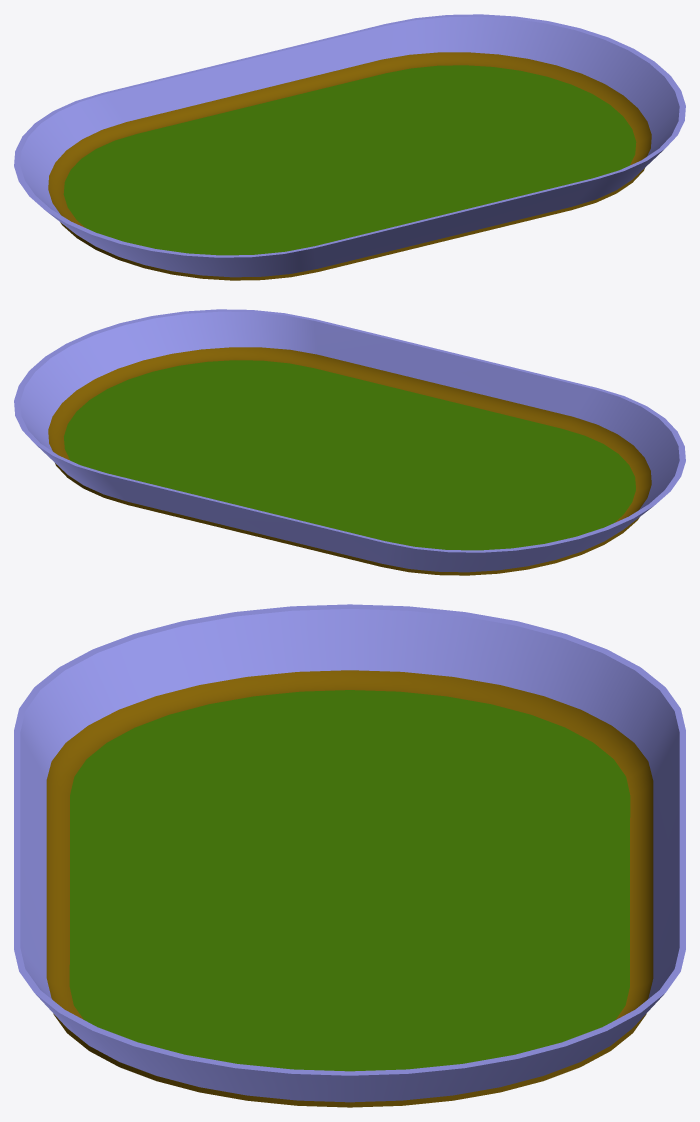
The model's file is Stadium_Round_Mesh.fbx.
The picture shows the model from 3 angles, top to bottom: view 1: azimuth 30°, elevation 25°; view 2: azimuth 150°, elevation 25°; view 3: azimuth 270°, elevation 25°; orthographic projection. The views are drawn at different scales.
Parts seen in each view (by area): view 1: Stadium; view 2: Stadium; view 3: Stadium.
Boxes of the visible parts, x1=… form: Stadium: x1=14, y1=14, x2=685, y2=280; Stadium: x1=14, y1=309, x2=685, y2=575; Stadium: x1=14, y1=604, x2=685, y2=1107.
Size of the model in its own units: 2851 by 159 by 1717.
